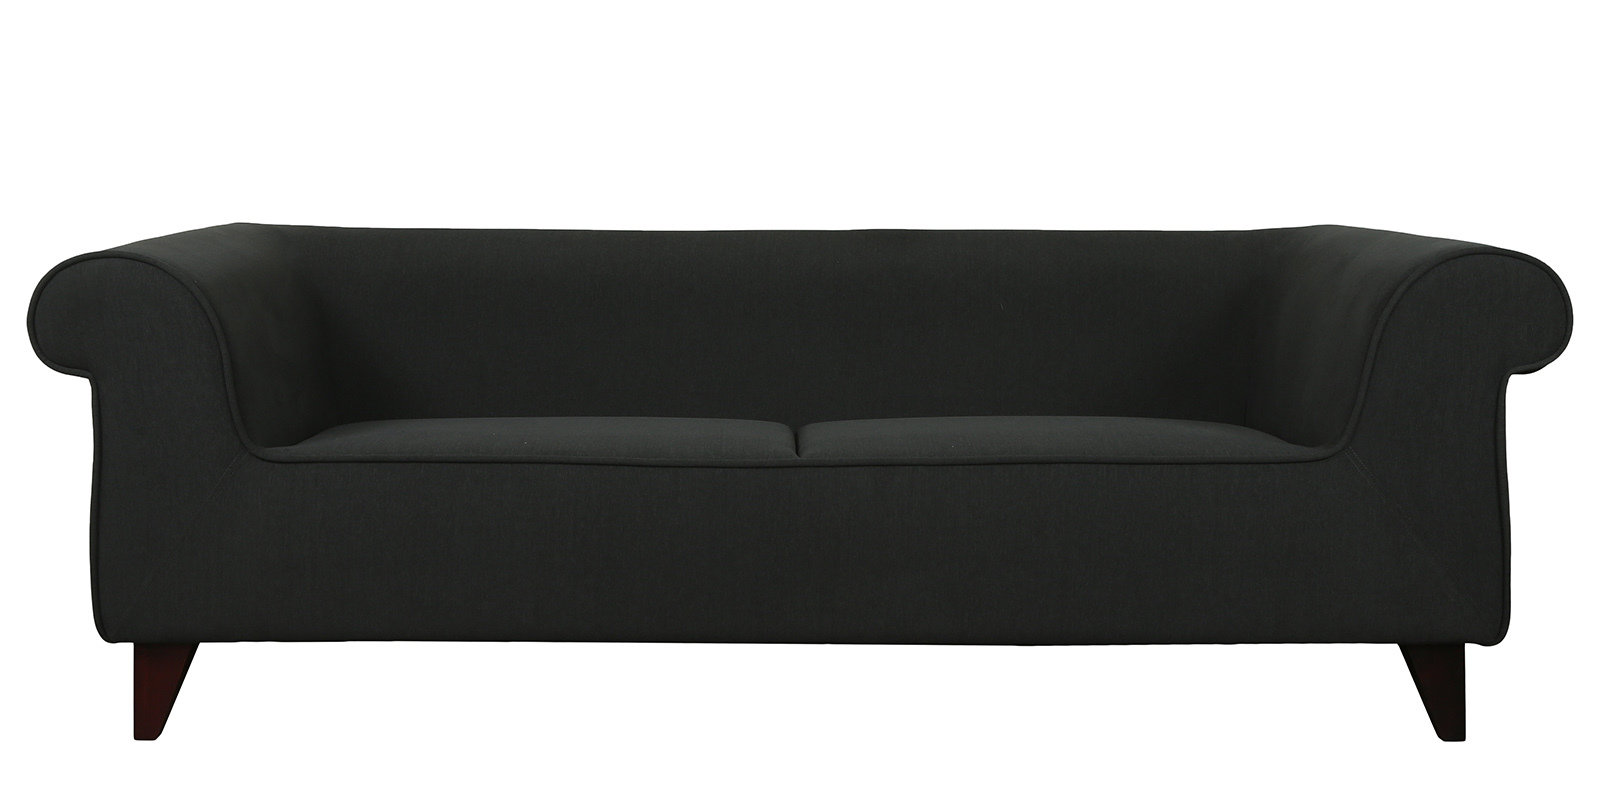Cielo Three Seater Sofa in Charcoal Grey Colour by CasaCraft: (17, 172, 1577, 743)
